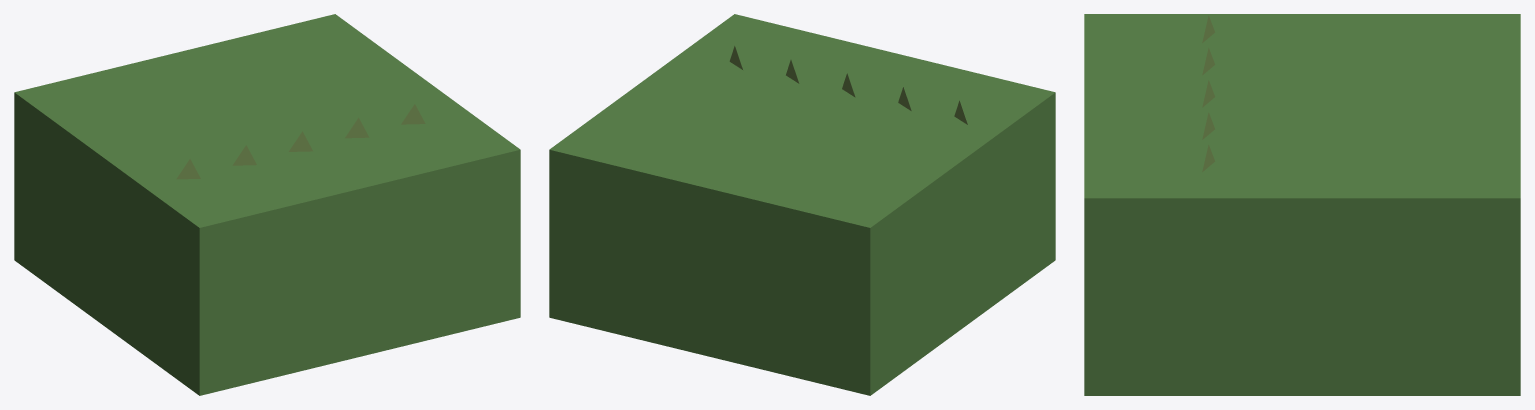
Rendered from terrain-grass-block.lod0.glb.
The picture shows the model from 3 angles, left to right: view 1: azimuth 30°, elevation 25°; view 2: azimuth 150°, elevation 25°; view 3: azimuth 270°, elevation 25°; orthographic projection. The views are drawn at different scales.
Visible parts, largest first — view 1: terrain-grass-block__body; view 2: terrain-grass-block__body; view 3: terrain-grass-block__body.
Part boxes in pixels (bbox=[...]): terrain-grass-block__body: bbox=[14, 14, 520, 395]; terrain-grass-block__body: bbox=[549, 14, 1055, 395]; terrain-grass-block__body: bbox=[1084, 14, 1520, 395].
Size of the model in its own units: 2 by 1.12 by 2.
